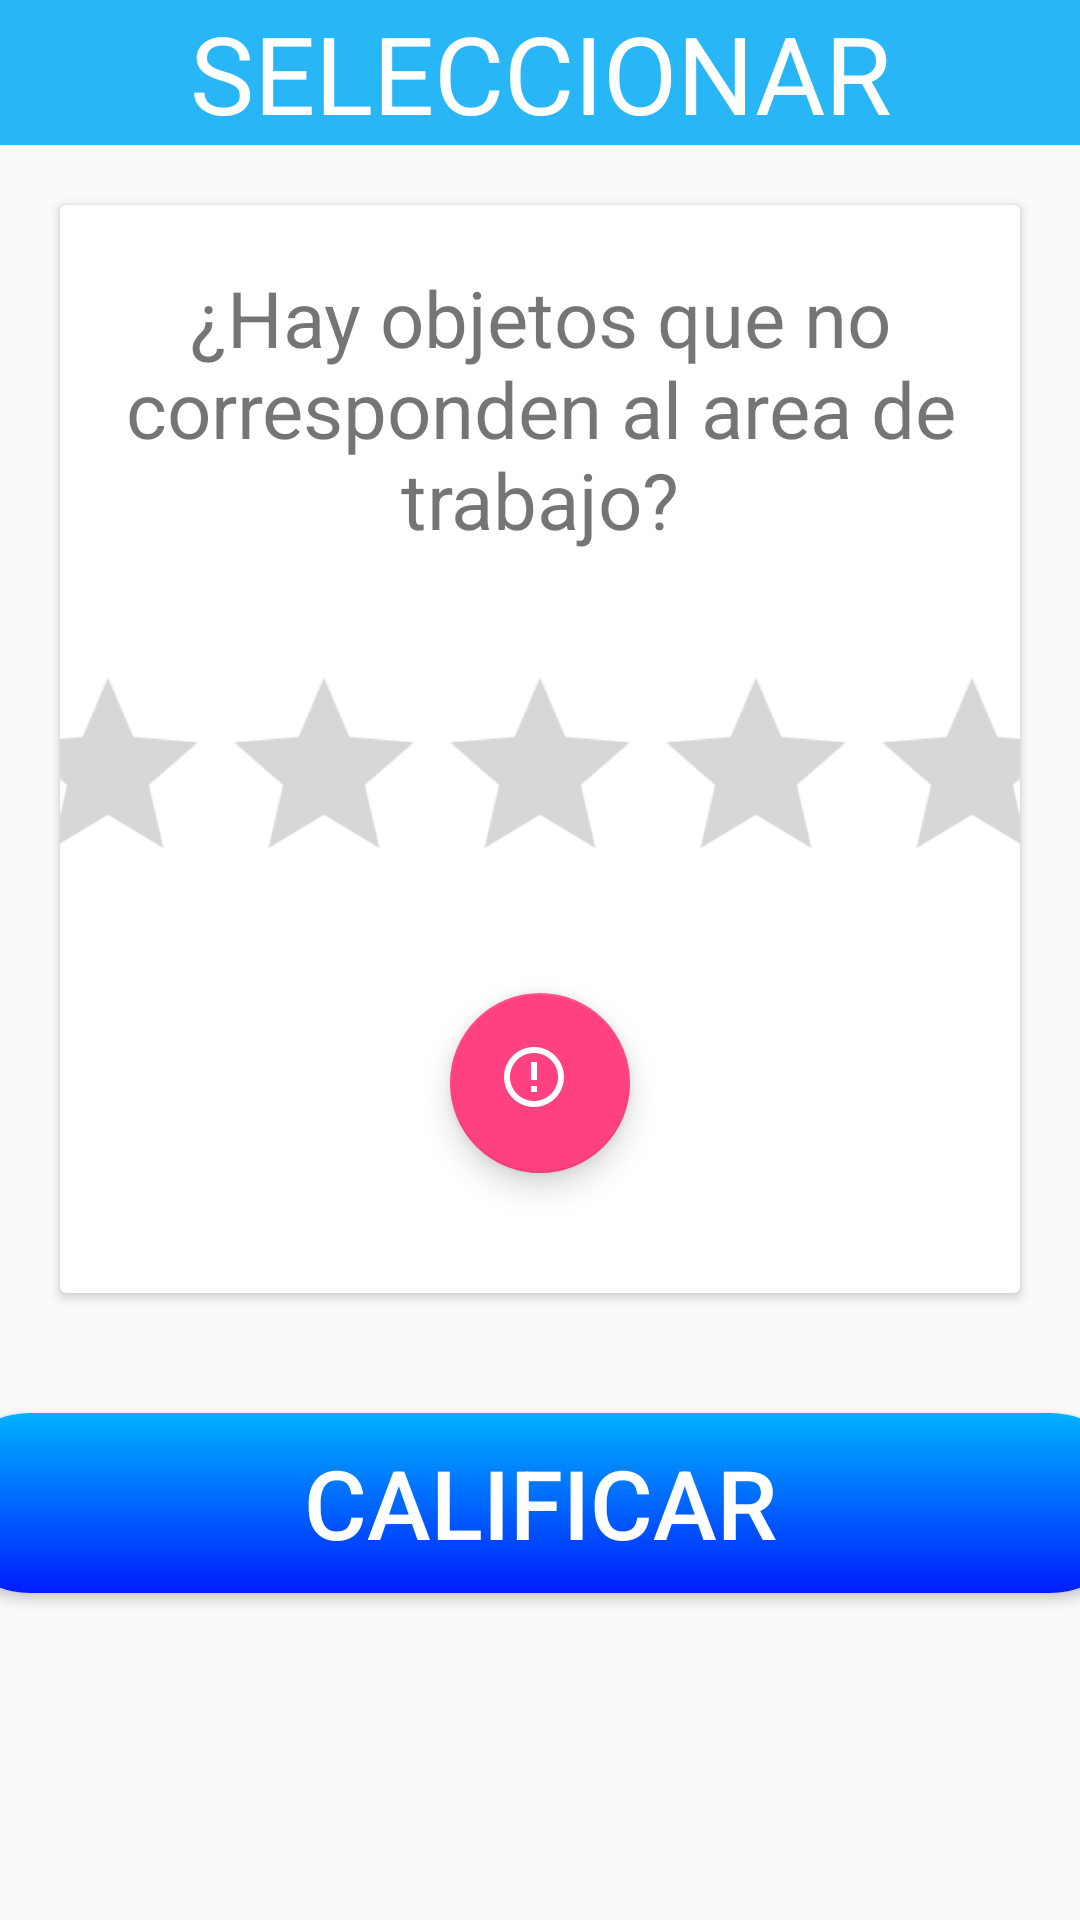

Where to tap for icons on this 1080w x 1920h app screen, as [x,y]:
hallazgo boton: [540,1083]
